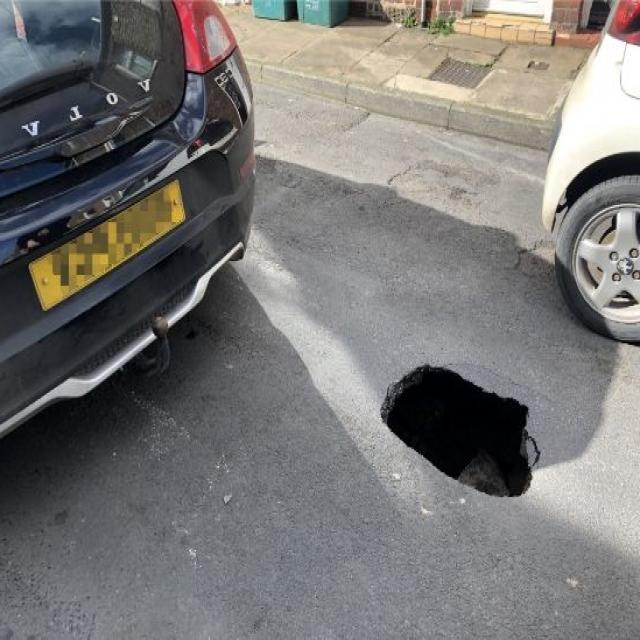pothole: (378, 357, 549, 500)
